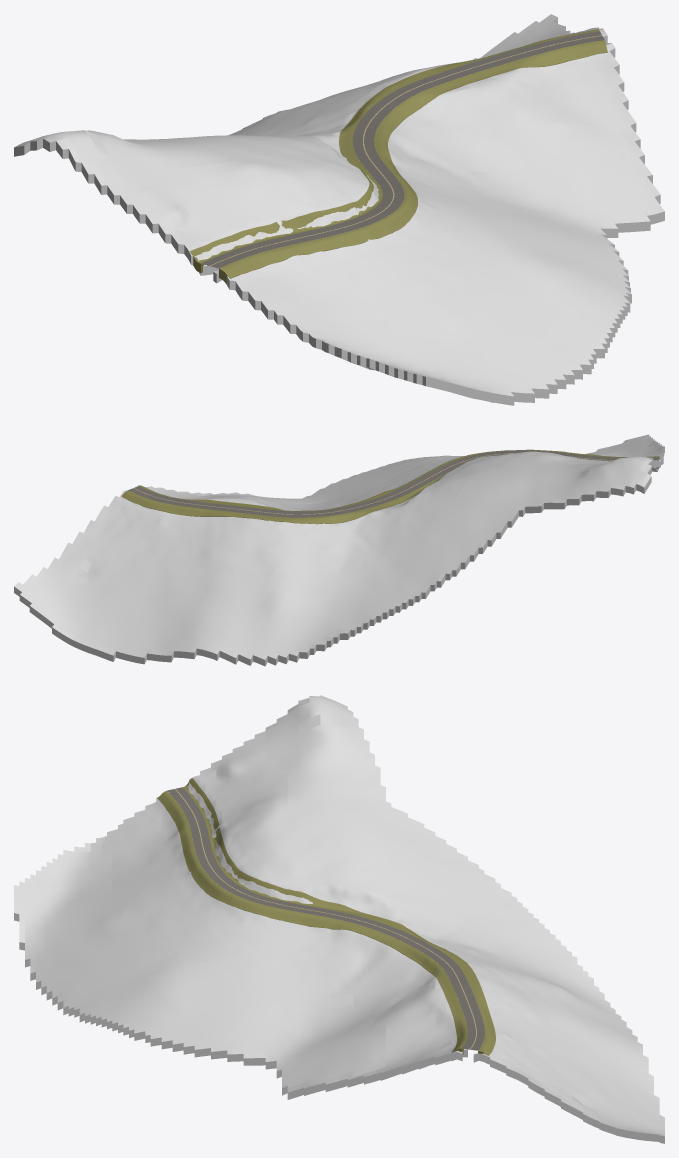
The model's file is conz_204.glb.
The picture shows the model from 3 angles, top to bottom: view 1: azimuth 30°, elevation 25°; view 2: azimuth 150°, elevation 25°; view 3: azimuth 270°, elevation 25°; orthographic projection. The views are drawn at different scales.
Parts seen in each view (by area): view 1: terrain204, road204, verge204R, verge204L, paint_yellow204; view 2: terrain204, road204, verge204L, verge204R; view 3: terrain204, road204, verge204R, verge204L.
Part boxes in pixels (<box>): terrain204: <box>14,14,664,405</box>; road204: <box>201,31,604,268</box>; verge204R: <box>219,40,607,283</box>; verge204L: <box>189,29,599,272</box>; paint_yellow204: <box>210,35,601,265</box>; terrain204: <box>14,434,664,666</box>; road204: <box>128,450,659,517</box>; verge204L: <box>121,457,658,524</box>; verge204R: <box>139,449,659,517</box>; terrain204: <box>14,695,664,1143</box>; road204: <box>167,787,484,1050</box>; verge204R: <box>157,790,467,1054</box>; verge204L: <box>182,778,495,1055</box>.
Bounding box in the file's own units: 244 × 85.86 × 238.
